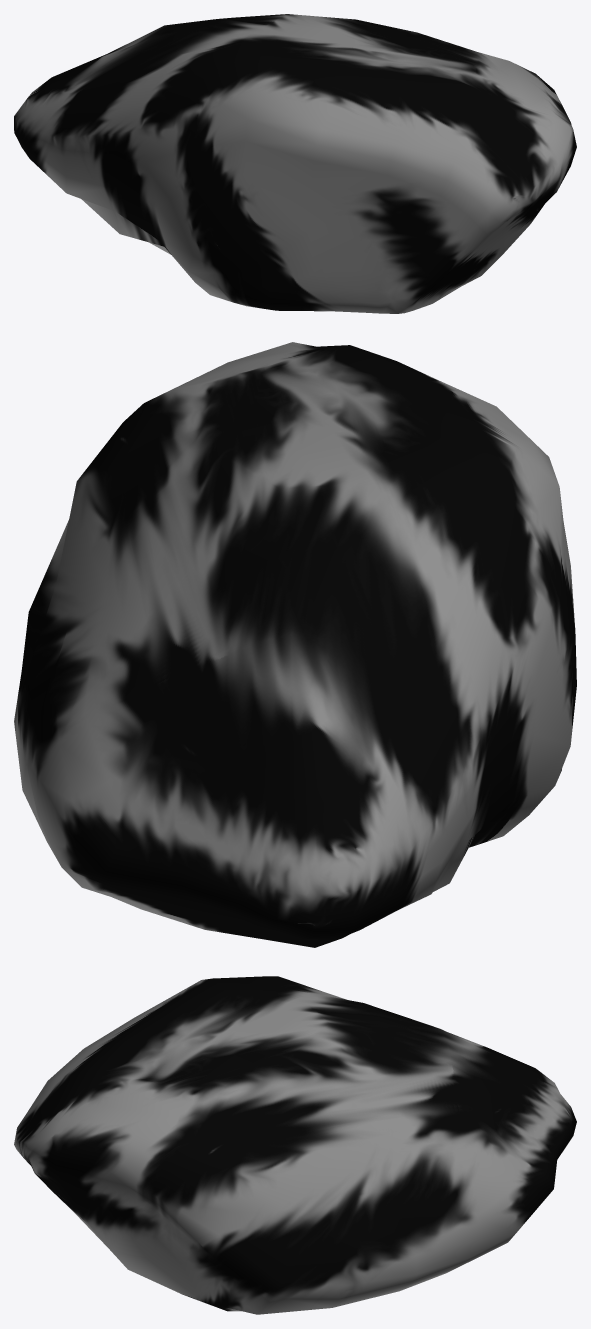
The model's file is tiger_rock.glb.
3 views of the same model, one above another, from view 1: azimuth 30°, elevation 25°; view 2: azimuth 150°, elevation 25°; view 3: azimuth 270°, elevation 25° (orthographic). The views are drawn at different scales.
Parts seen in each view (by area): view 1: Rock4; view 2: Rock4; view 3: Rock4.
Boxes of the visible parts, x1=… form: Rock4: x1=14, y1=14, x2=576, y2=313; Rock4: x1=14, y1=342, x2=576, y2=947; Rock4: x1=14, y1=976, x2=576, y2=1314.
Size of the model in its own units: 22.64 by 14.81 by 30.57.
1 material, 1 textured.
